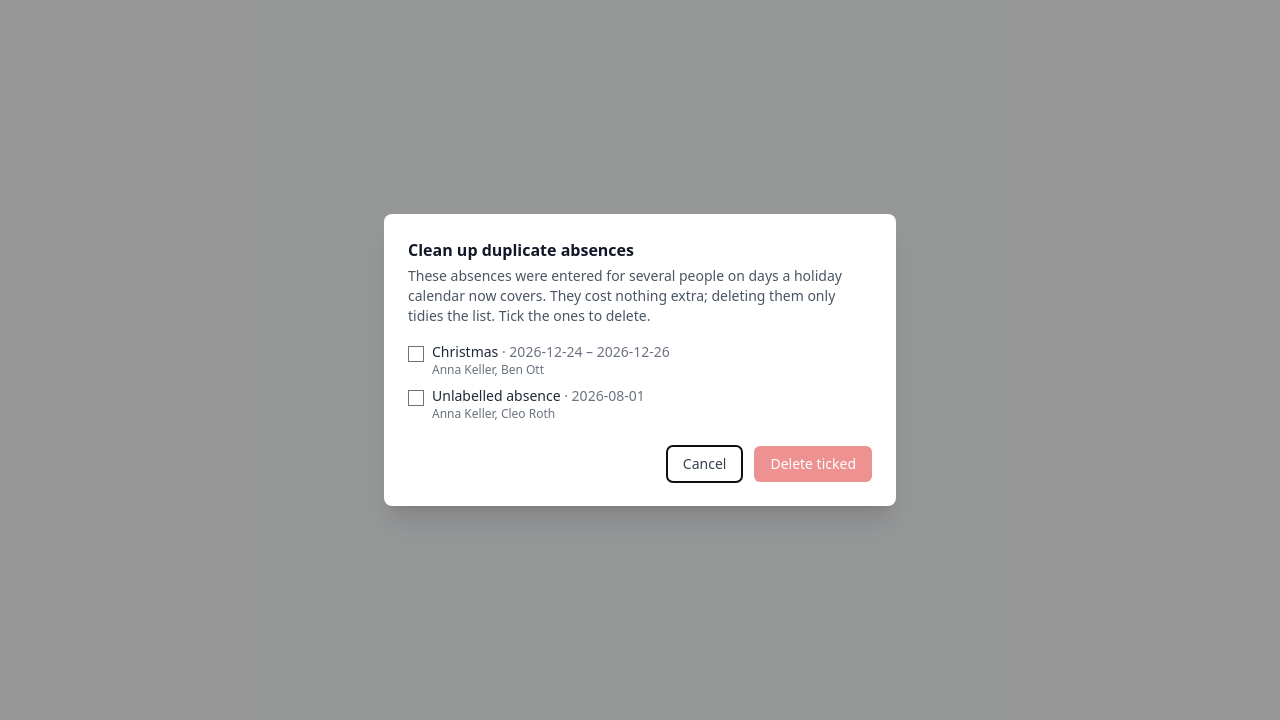
Test: HolidayCleanupDialog › falls back to a generic message, and clears it on retry
Click the checkbox labelled "Christmas · 2026-12-24 – 2026-12-26 Anna Keller, Ben Ott": x=416, y=354 x1=408 y1=346 x2=424 y2=362
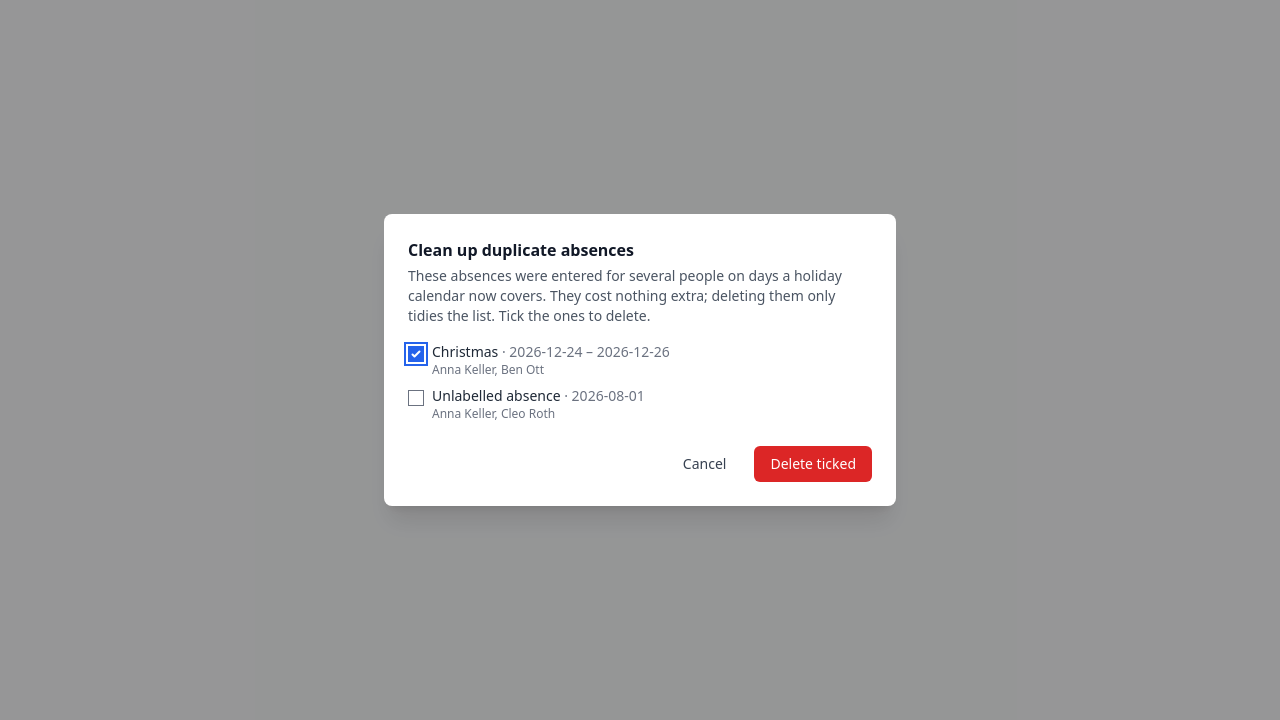
Click the button "Delete ticked": x=813, y=464 x1=754 y1=446 x2=872 y2=482
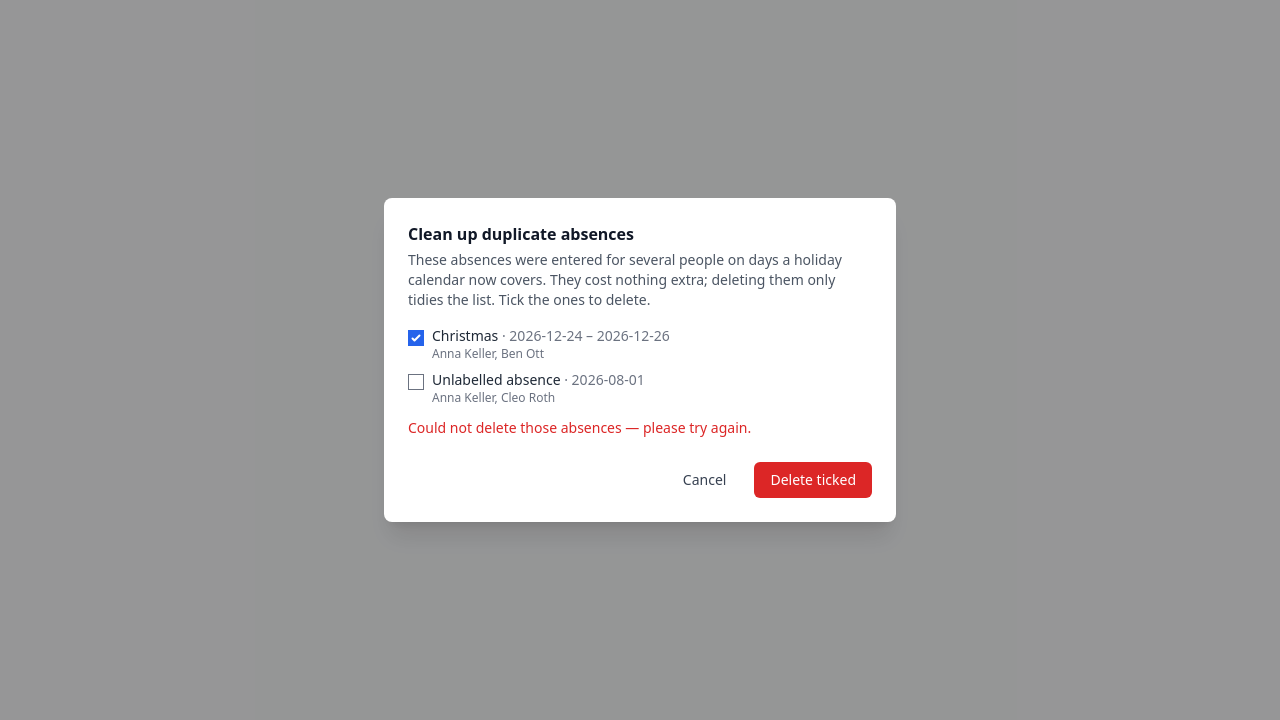
Expected: the message reads "Could not delete those absences — please try again.", x1=408 y1=418 x2=751 y2=437
Click the button "Delete ticked": x=813, y=480 x1=754 y1=462 x2=872 y2=498
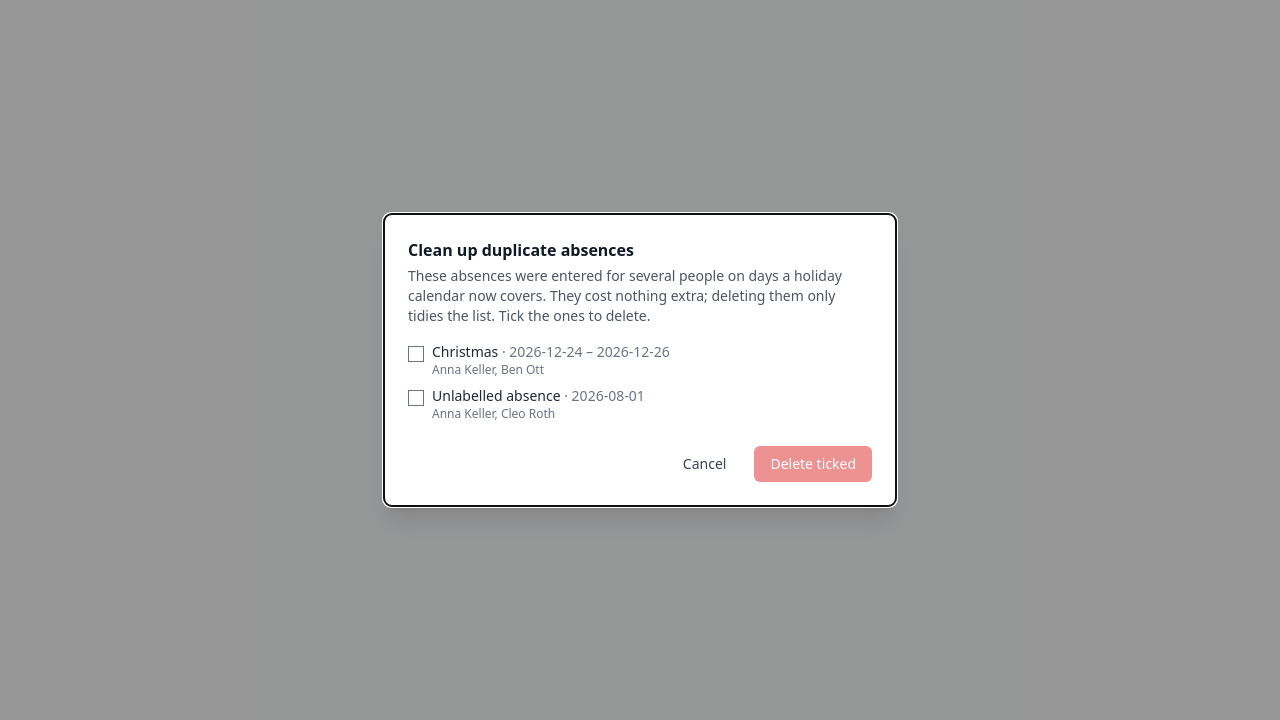
Expected: the message "Could not delete those absences — please try again." is gone
